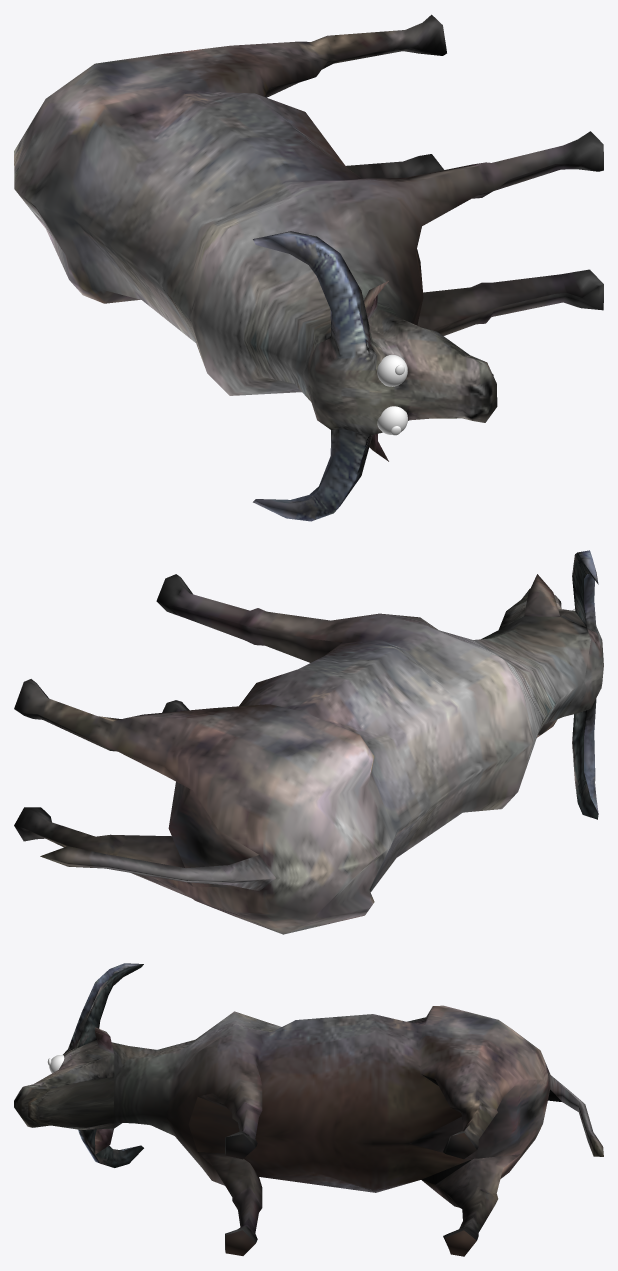
Rendered from toro Ragdoll.glb.
The picture shows the model from 3 angles, top to bottom: view 1: azimuth 30°, elevation 25°; view 2: azimuth 150°, elevation 25°; view 3: azimuth 270°, elevation 25°; orthographic projection. The views are drawn at different scales.
Parts seen in each view (by area): view 1: toro, Sphere; view 2: toro; view 3: toro.
Part boxes in pixels (x1=…): toro: x1=14, y1=14, x2=603, y2=521; Sphere: x1=377, y1=354, x2=407, y2=386; toro: x1=14, y1=550, x2=603, y2=934; toro: x1=14, y1=963, x2=603, y2=1256.
Size of the model in its own units: 1.54 by 1.02 by 2.74.
Materials: 3 (1 with a texture image).
